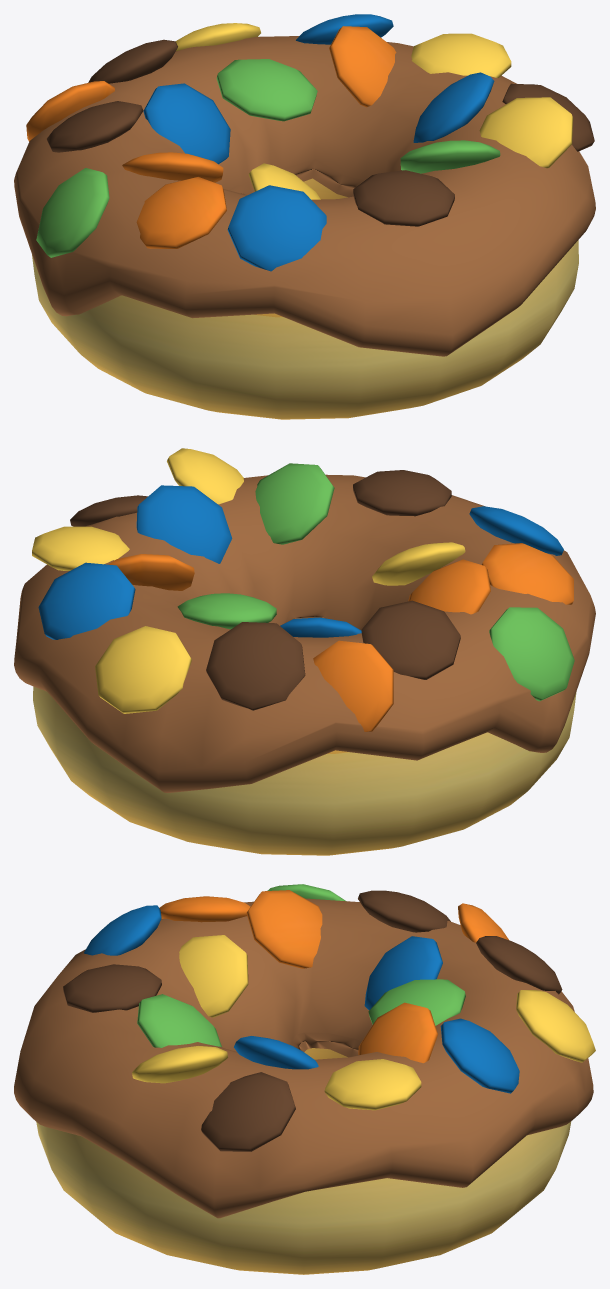
File: donut2.fbx
3 views of the same model, one above another, from view 1: azimuth 30°, elevation 25°; view 2: azimuth 150°, elevation 25°; view 3: azimuth 270°, elevation 25° (orthographic). The views are drawn at different scales.
Visible parts, largest first — view 1: donutsos2, donut2, polySurface1738, polySurface1931, polySurface1732, polySurface1932, polySurface1920, polySurface1927, polySurface1924, polySurface1734, polySurface1925, polySurface1930 (+9 smaller); view 2: donutsos2, donut2, polySurface1928, polySurface1724, polySurface1731, polySurface1924, polySurface1926, polySurface1930, polySurface1922, polySurface1929, polySurface1931, polySurface1927 (+9 smaller); view 3: donutsos2, donut2, polySurface1933, polySurface1921, polySurface1923, polySurface1925, polySurface1926, polySurface1927, polySurface1724, polySurface1734, polySurface1922, polySurface1932 (+9 smaller).
Part boxes in pixels (x1,y1,x2,y2): donutsos2: (14,36,595,356); donut2: (32,178,578,419); polySurface1738: (227,185,326,271); polySurface1931: (136,177,226,248); polySurface1732: (216,59,317,121); polySurface1932: (143,83,230,164); polySurface1920: (479,97,573,168); polySurface1927: (353,170,454,226); polySurface1924: (36,168,109,257); polySurface1734: (329,26,396,107); polySurface1925: (411,33,511,77); polySurface1930: (413,72,494,142); donutsos2: (14,474,595,792); donut2: (33,686,576,855); polySurface1928: (206,622,305,710); polySurface1724: (95,626,191,713); polySurface1731: (361,600,460,679); polySurface1924: (489,607,574,701); polySurface1926: (38,562,135,639); polySurface1930: (136,485,232,563); polySurface1922: (255,463,334,544); polySurface1929: (313,640,393,731); polySurface1931: (482,543,573,604); polySurface1927: (353,470,451,516); donutsos2: (14,898,593,1218); donut2: (36,1048,571,1274); polySurface1933: (201,1072,295,1151); polySurface1921: (246,890,322,968); polySurface1923: (179,935,248,1017); polySurface1925: (324,1059,421,1110); polySurface1926: (440,1018,519,1093); polySurface1927: (63,964,161,1012); polySurface1724: (516,990,595,1062); polySurface1734: (358,1002,437,1063); polySurface1922: (137,994,221,1047); polySurface1932: (364,936,442,1010).
Size of the model in its own units: 87.9 by 38.46 by 87.55.
3 materials, 2 textured.
